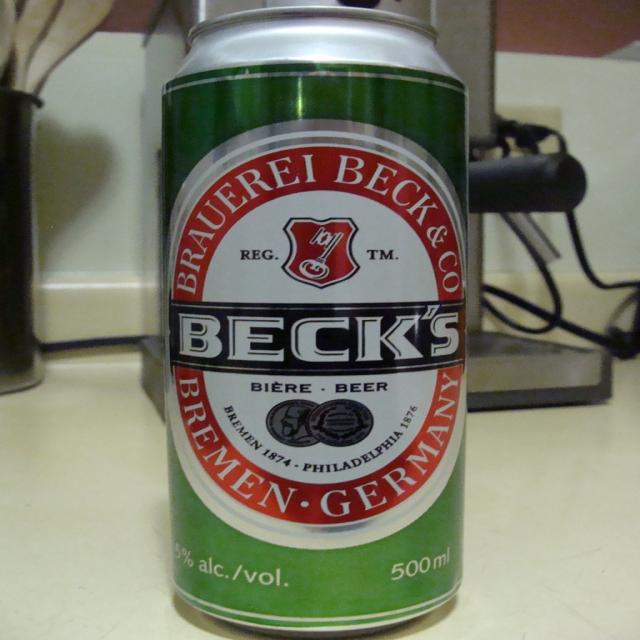becks: (167, 121, 470, 554)
